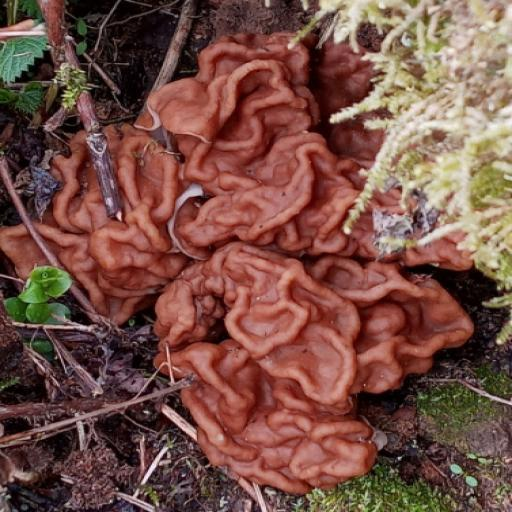mushroom: (121, 12, 381, 300), (5, 97, 234, 331), (0, 0, 1, 1)
